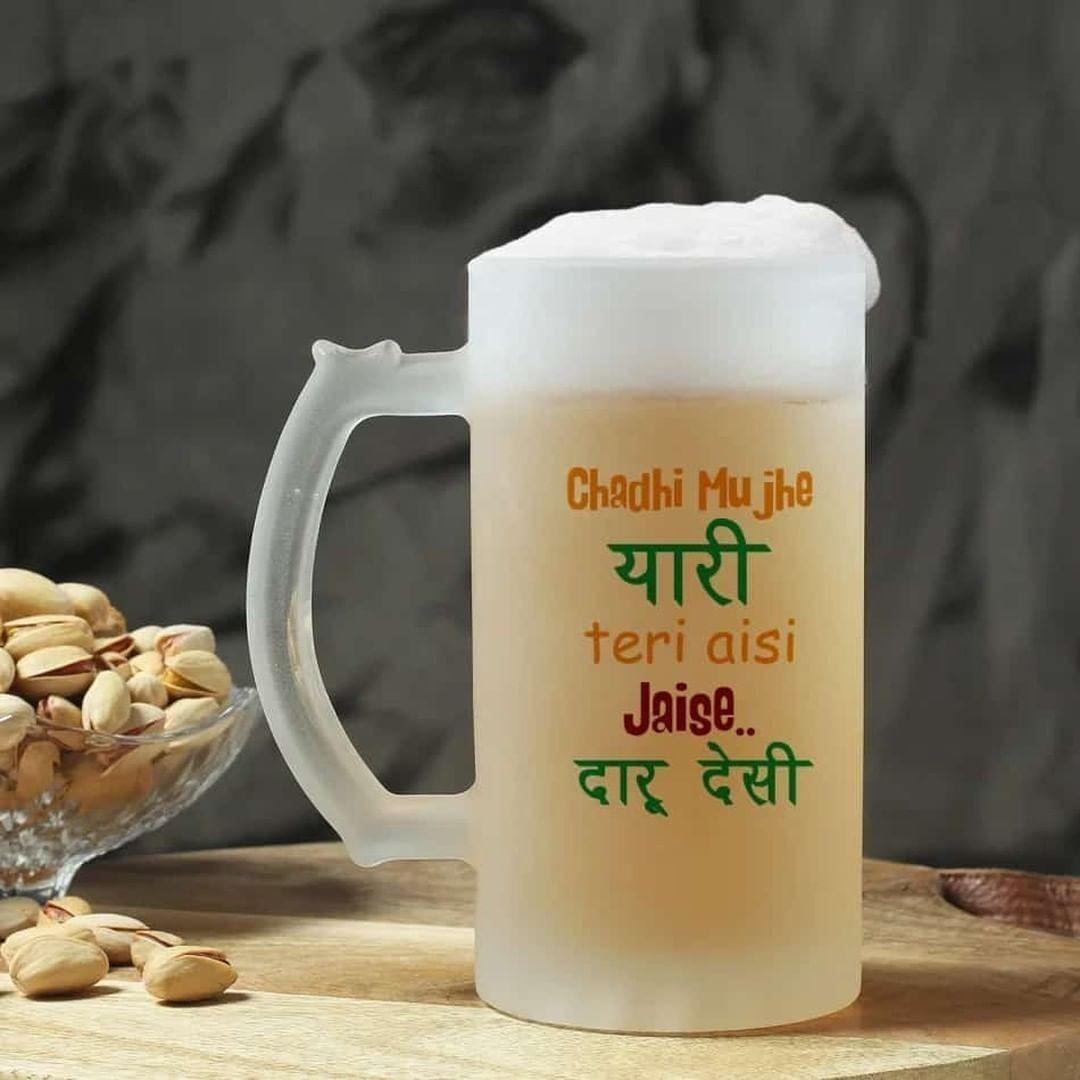glass-mug: (238, 225, 887, 1046)
